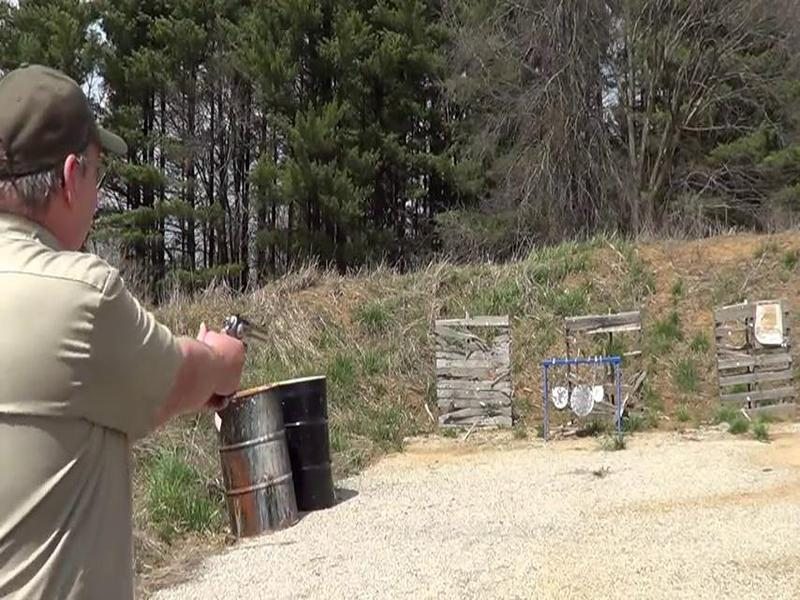Revolver: (205, 294, 281, 382)
